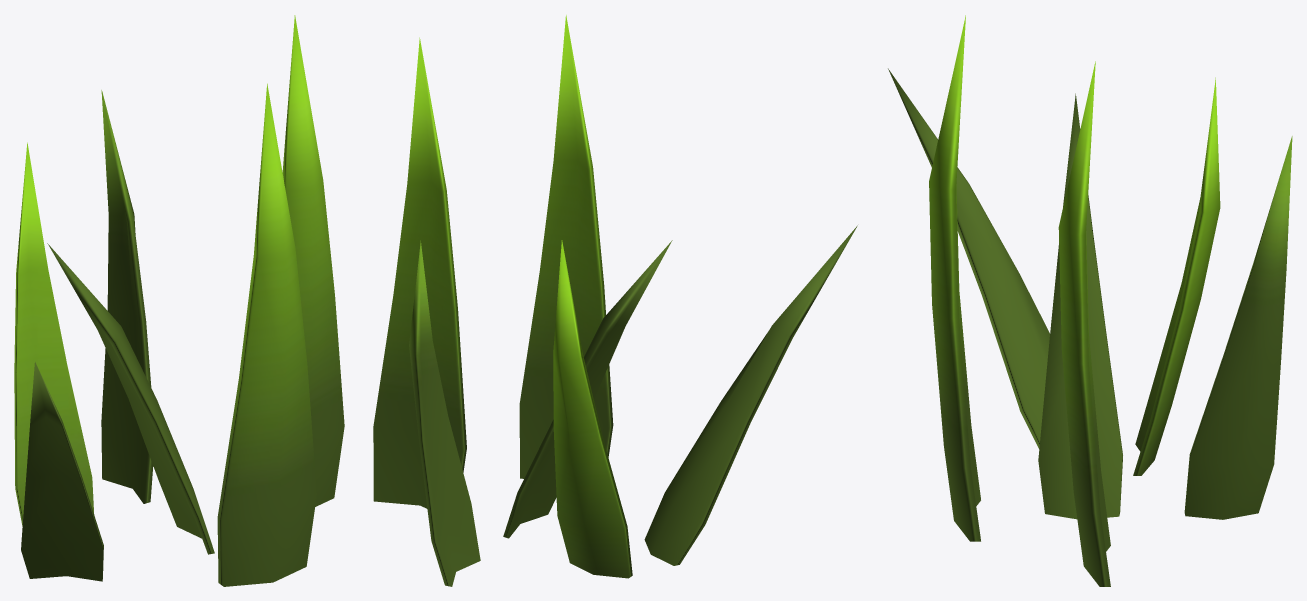
The model's file is grass.glb.
The picture shows the model from 3 angles, left to right: view 1: azimuth 30°, elevation 25°; view 2: azimuth 150°, elevation 25°; view 3: azimuth 270°, elevation 25°; orthographic projection. The views are drawn at different scales.
Parts seen in each view (by area): view 1: Grass; view 2: Grass; view 3: Grass.
Part boxes in pixels (x1,y1,x2,y2): Grass: (14,15,344,586); Grass: (373,15,857,586); Grass: (888,15,1292,586).
Bounding box in the file's own units: 0.8681 × 1.01 × 0.729.
Materials: 1 (1 with a texture image).
